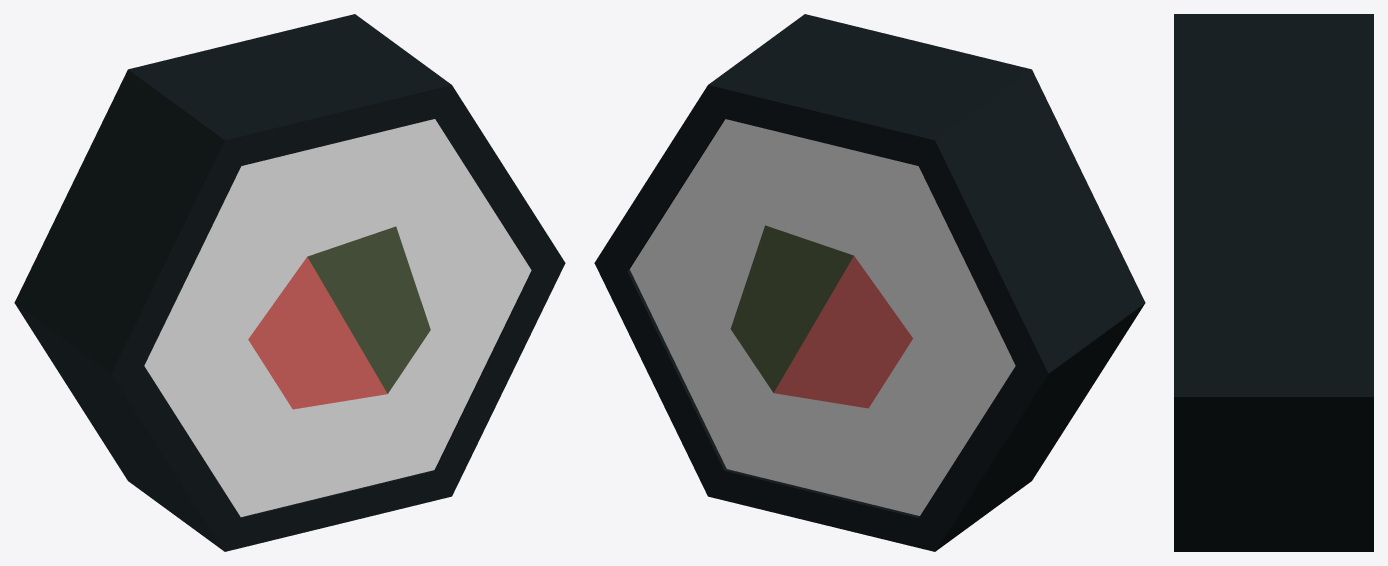
File: SM_Food_Sushi_03.fbx
3 renders of one model, left to right at view 1: azimuth 30°, elevation 25°; view 2: azimuth 150°, elevation 25°; view 3: azimuth 270°, elevation 25°, orthographic. The views are drawn at different scales.
Parts seen in each view (by area): view 1: SM_Food_Sushi_03; view 2: SM_Food_Sushi_03; view 3: SM_Food_Sushi_03.
Boxes of the visible parts, x1,y1,x2,y2 form: SM_Food_Sushi_03: (14, 14, 565, 551); SM_Food_Sushi_03: (594, 14, 1145, 551); SM_Food_Sushi_03: (1174, 14, 1373, 551).
Bounding box in the file's own units: 7.83 × 6.78 × 2.9.
